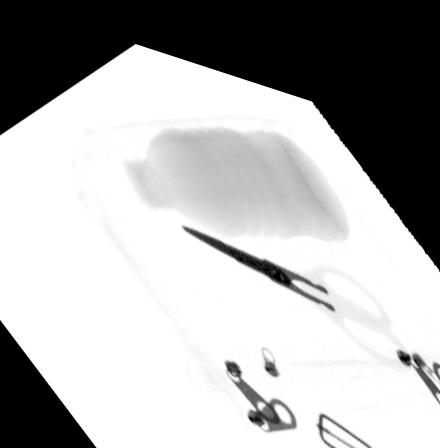Scissors: (180, 210, 410, 348)
